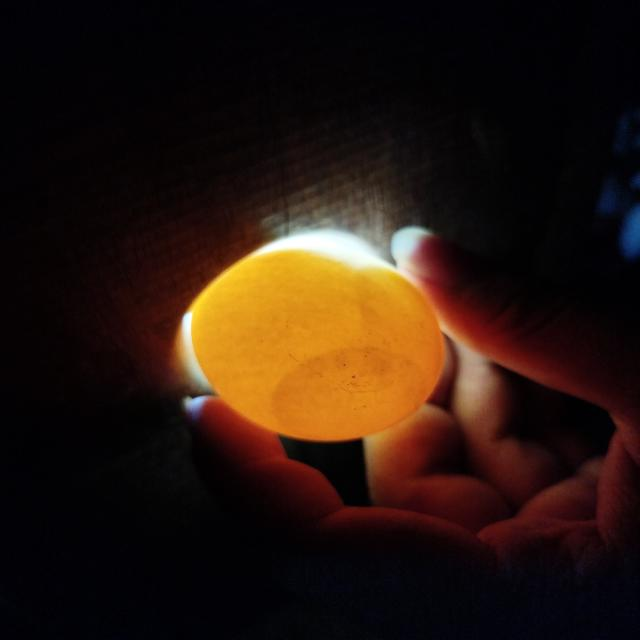Camara de Ar: (272, 347, 426, 441)
Rachadura: (348, 391, 378, 407)
